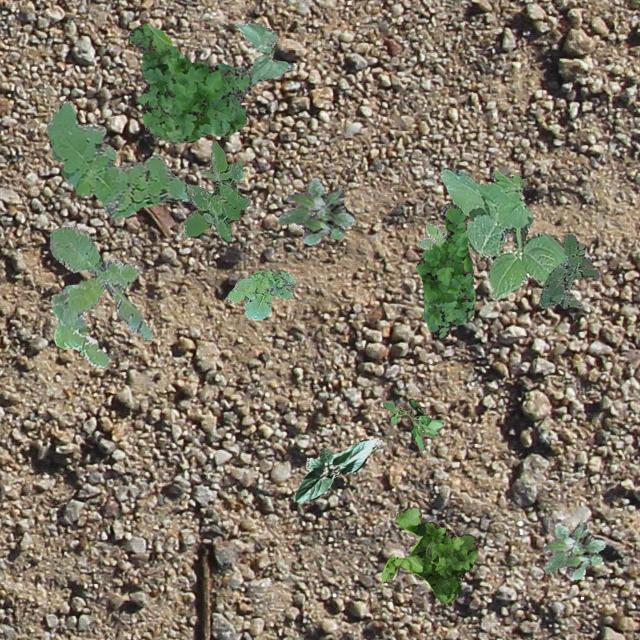crop: (293, 436, 382, 502), (233, 22, 290, 84)
weed: (439, 167, 566, 300), (44, 100, 188, 216), (128, 22, 252, 142), (48, 226, 152, 366), (381, 506, 476, 604), (414, 202, 474, 338), (182, 140, 250, 240), (278, 176, 354, 244), (538, 232, 598, 308), (542, 518, 604, 578), (227, 270, 294, 318), (382, 398, 442, 450), (416, 222, 446, 248)
